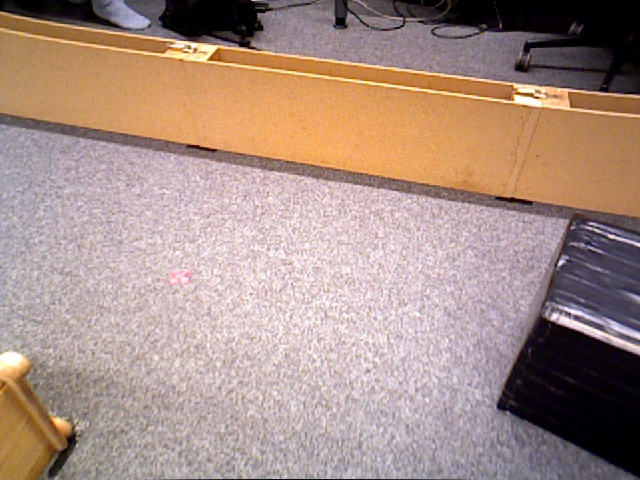push: (505, 217, 640, 478)
